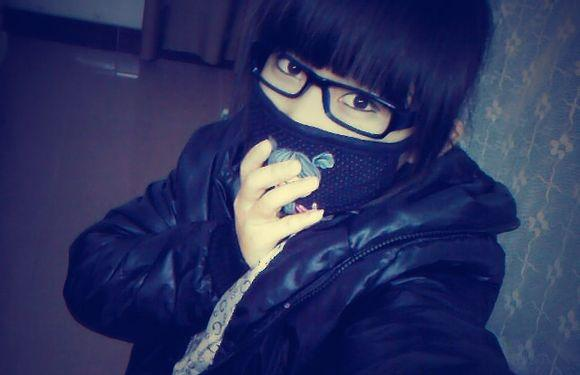OK: (248, 44, 412, 208)
